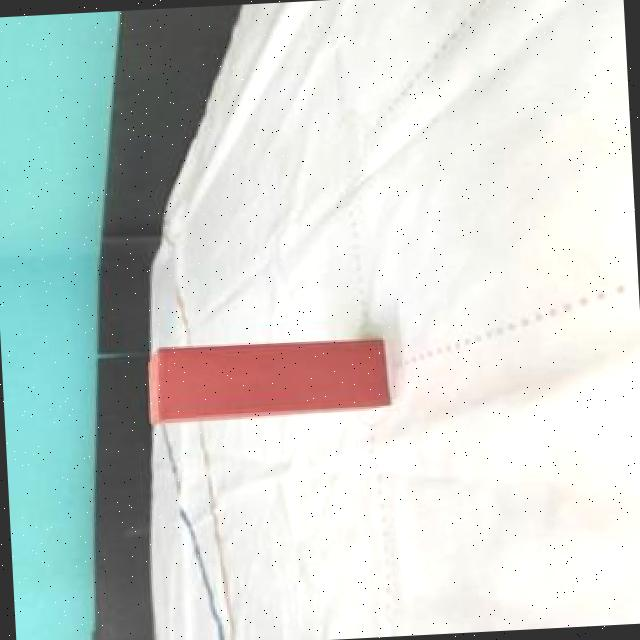redbox: (144, 336, 392, 422)
